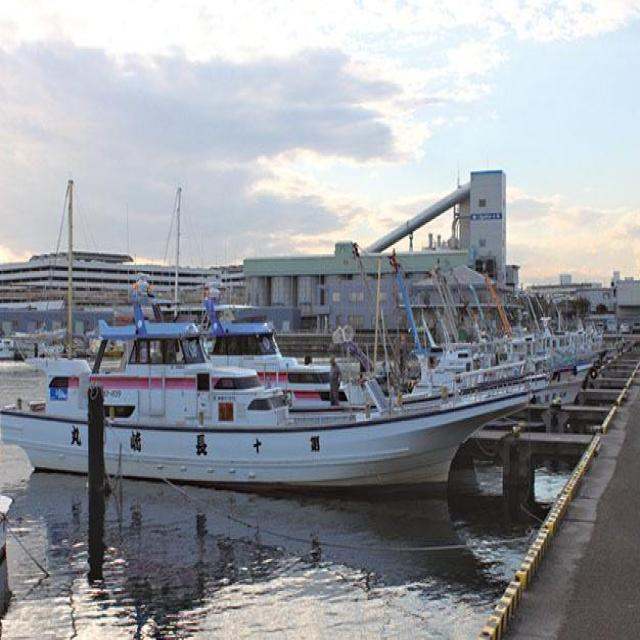houseboat: (1, 279, 517, 504)
